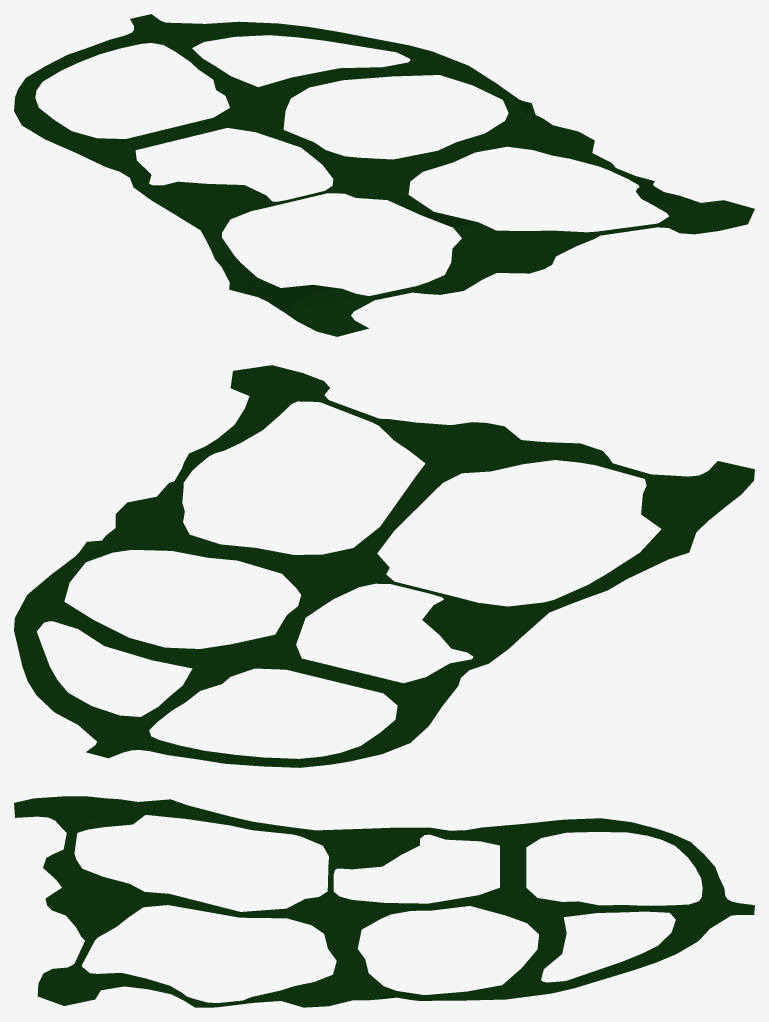
File: pathMesh.fbx
3 renders of one model, top to bottom at view 1: azimuth 30°, elevation 25°; view 2: azimuth 150°, elevation 25°; view 3: azimuth 270°, elevation 25°, orthographic. The views are drawn at different scales.
Parts seen in each view (by area): view 1: pathMesh_5300; view 2: pathMesh_5300; view 3: pathMesh_5300.
Part boxes in pixels (bbox=[...]): pathMesh_5300: bbox=[14, 14, 754, 336]; pathMesh_5300: bbox=[14, 365, 754, 767]; pathMesh_5300: bbox=[14, 796, 754, 1007].
Size of the model in its own units: 282 by 10.91 by 412.
